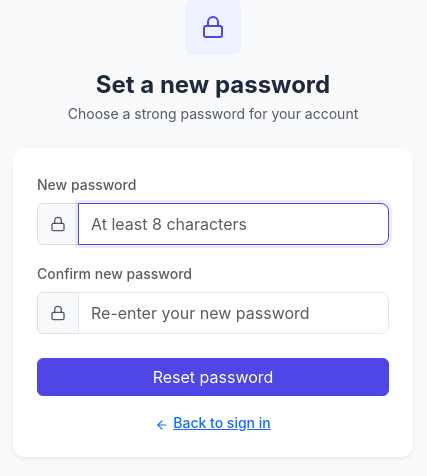
Test: ResetPassword › resets the password with the token from the URL
Step 1. Type "NewPassword1" into the password field with placeholder "At least 8 characters" → (234,224), box [78, 203, 389, 245]
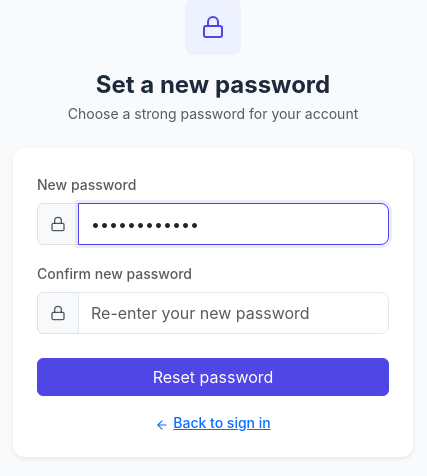
Step 2. Type "NewPassword1" into the password field with placeholder "Re-enter your new password" → (234,313), box [78, 292, 389, 334]
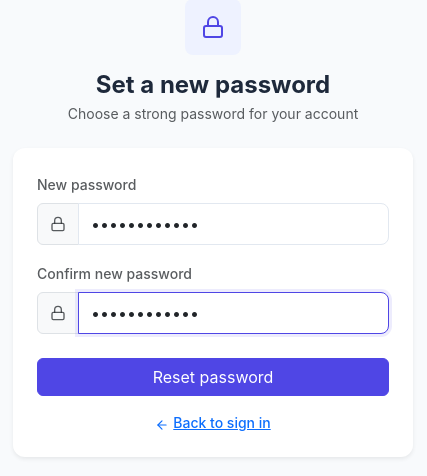
Step 3. Click the button "Reset password" → (213,377), box [37, 358, 389, 396]
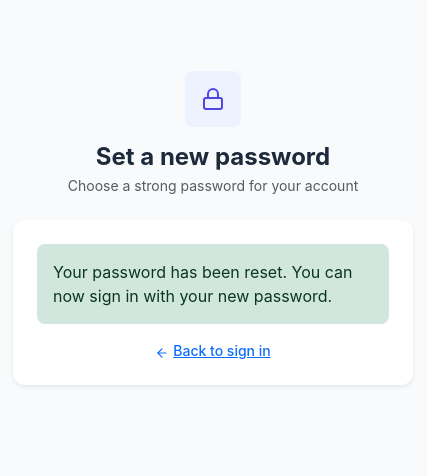
expect the text "Your password has been reset. You can now sign in with your new password." is shown: met, box [37, 244, 389, 324]
